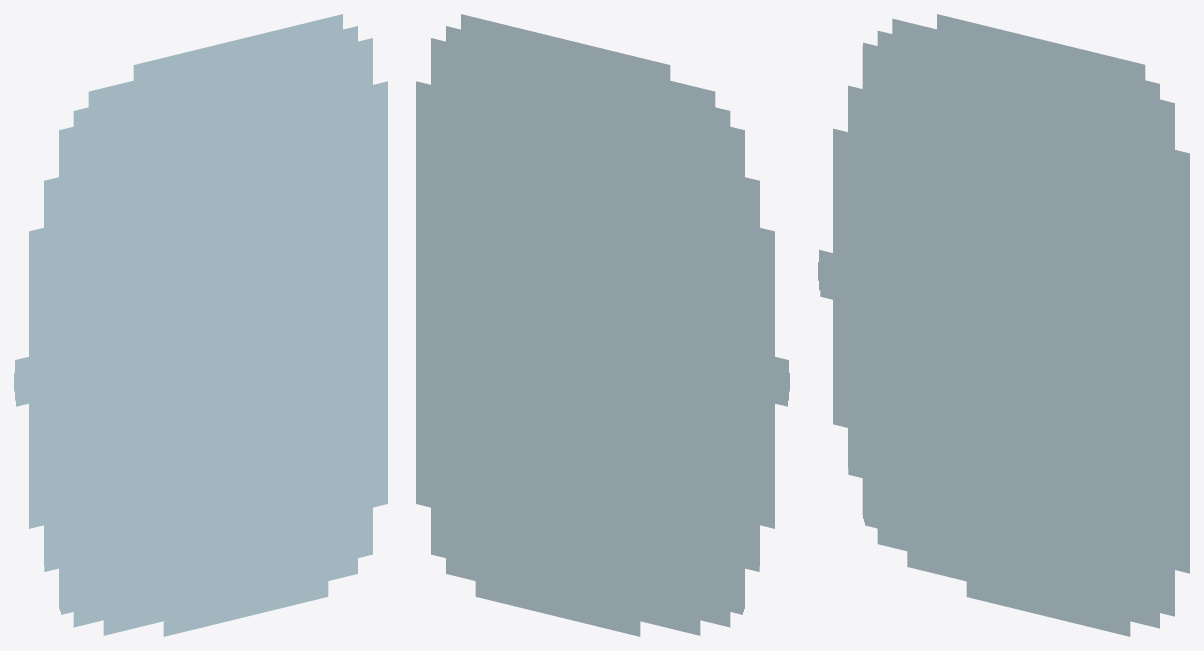
File: wp_water_25.obj
The picture shows the model from 3 angles, left to right: view 1: azimuth 30°, elevation 25°; view 2: azimuth 150°, elevation 25°; view 3: azimuth 330°, elevation 25°; orthographic projection.
Bounding box in the file's own units: 0.357 × 0.5283 × 0.
Materials: 1 (1 with a texture image).
